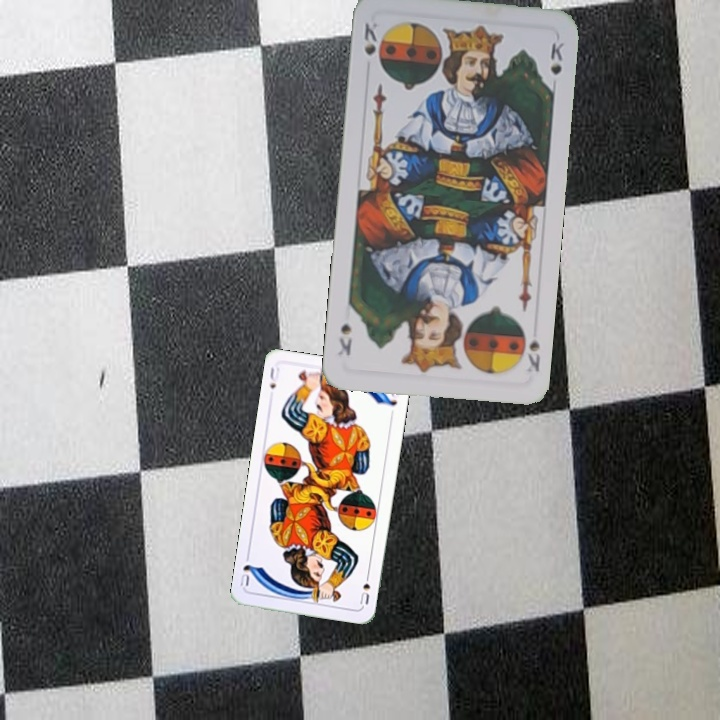SK: (360, 18, 383, 58), (522, 335, 543, 375)
SU: (356, 568, 373, 608), (266, 364, 282, 391)
